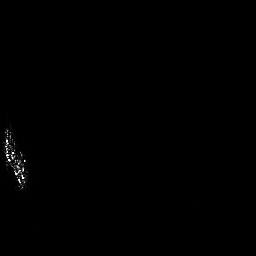ship: (1, 126, 29, 191)
